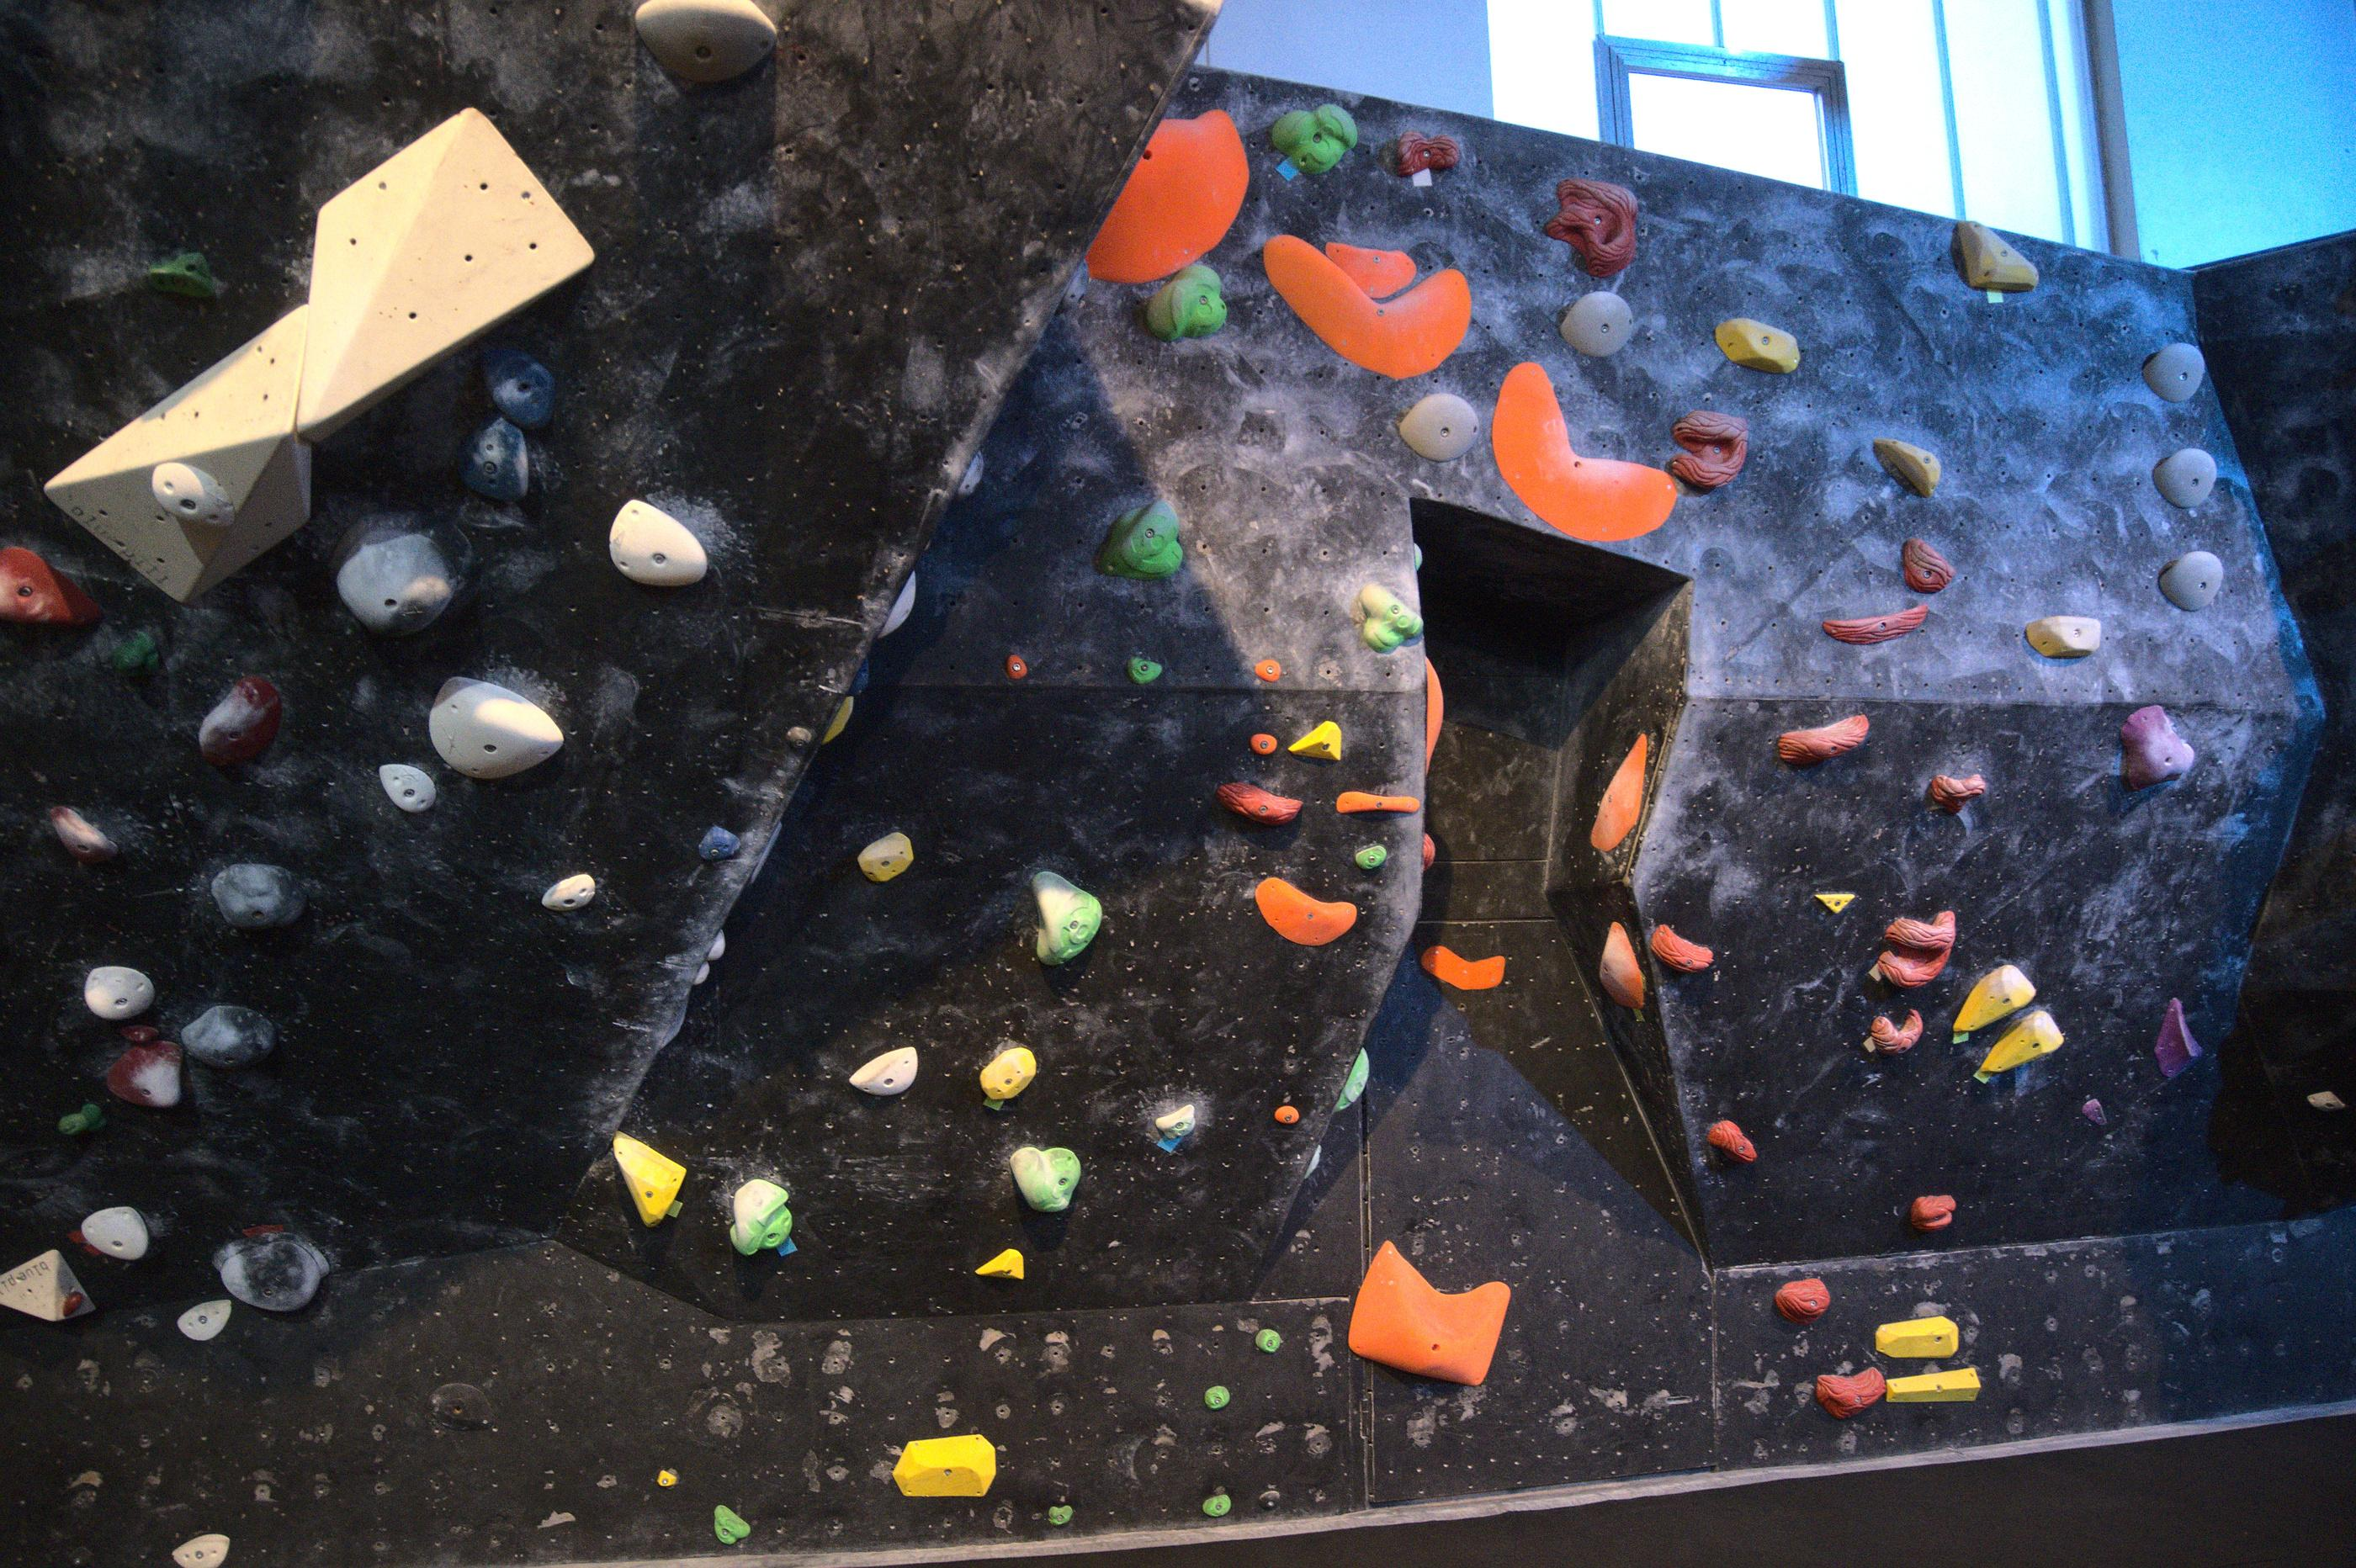Climbing-Holds: (1449, 353, 1687, 579), (1071, 87, 1280, 324), (1243, 231, 1477, 388), (1341, 1237, 1516, 1393), (411, 663, 572, 807), (329, 506, 481, 637), (592, 492, 723, 609), (186, 665, 301, 786), (1535, 173, 1647, 285), (1932, 210, 2044, 318), (1259, 79, 1367, 189), (634, 0, 775, 84), (446, 411, 551, 518), (2097, 696, 2202, 801), (137, 446, 245, 548), (585, 1130, 691, 1232), (1243, 871, 1360, 959), (1869, 892, 1964, 999), (1390, 376, 1490, 474), (1586, 728, 1661, 856), (1087, 497, 1187, 590), (215, 1232, 329, 1311), (1549, 276, 1644, 371), (1936, 955, 2041, 1039), (1967, 1001, 2067, 1088), (1337, 577, 1428, 667), (0, 546, 100, 625), (1707, 310, 1806, 383), (2132, 329, 2218, 413), (891, 1433, 996, 1501), (1139, 261, 1227, 341), (2151, 537, 2233, 619), (2146, 437, 2230, 518), (37, 796, 121, 877), (179, 1003, 278, 1069), (1586, 917, 1652, 1017), (1033, 870, 1103, 964), (1773, 707, 1875, 772), (1318, 241, 1420, 304), (2134, 996, 2207, 1081), (847, 1038, 931, 1111), (1672, 411, 1747, 492), (725, 1176, 795, 1260), (1861, 432, 1946, 501), (212, 864, 305, 928), (483, 348, 555, 429), (1820, 602, 1934, 651), (1885, 532, 1960, 604), (1211, 775, 1304, 833), (107, 1041, 182, 1109), (971, 1039, 1045, 1108), (1008, 1144, 1082, 1213), (1418, 941, 1507, 997), (1640, 919, 1717, 983), (1812, 1361, 1890, 1423), (1768, 1265, 1836, 1333), (172, 1284, 242, 1351), (1873, 1314, 1960, 1367), (79, 1202, 152, 1262), (852, 826, 921, 889), (873, 569, 931, 639), (84, 966, 154, 1020), (536, 866, 602, 920), (1703, 1113, 1763, 1172), (147, 252, 219, 299), (2025, 614, 2102, 658), (1395, 131, 1463, 180), (1885, 1367, 1980, 1402), (1332, 1046, 1376, 1118), (103, 628, 161, 681), (1288, 714, 1348, 765), (1054, 257, 1096, 324), (380, 765, 436, 812), (704, 1498, 753, 1549), (432, 1382, 487, 1428), (1423, 660, 1444, 770), (819, 691, 858, 751), (1927, 775, 1985, 814), (950, 450, 994, 501), (695, 824, 742, 870), (1869, 1013, 1922, 1053), (172, 1533, 231, 1568), (1150, 1102, 1201, 1143), (1908, 1193, 1957, 1232), (975, 1246, 1027, 1281), (1334, 791, 1420, 812), (54, 1101, 105, 1136), (1124, 651, 1164, 686), (845, 656, 875, 700), (1351, 840, 1390, 873), (1199, 1379, 1234, 1414), (56, 1286, 88, 1323), (998, 651, 1031, 684), (1246, 726, 1280, 758), (704, 928, 730, 966), (1271, 1099, 1302, 1130), (1813, 891, 1855, 913), (2307, 1088, 2345, 1113), (2079, 1097, 2109, 1127), (1043, 1500, 1075, 1528), (1253, 1326, 1283, 1354), (121, 1024, 159, 1045), (1252, 658, 1281, 682), (1201, 1494, 1231, 1517), (691, 961, 712, 989), (1423, 835, 1437, 868), (1409, 541, 1423, 569), (656, 1468, 676, 1487)
